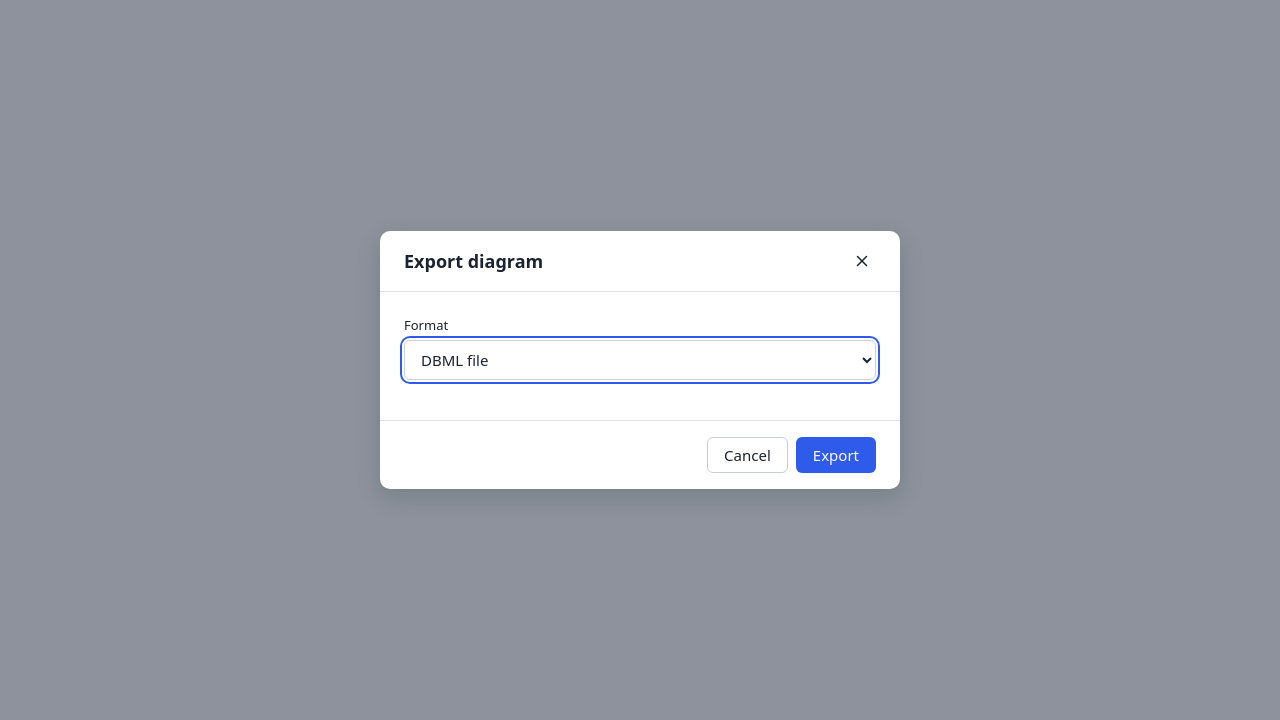
Test: export dialog › shows the list of source errors for an SQL export
The width and height of the screenshot is (1280, 720).
Select "SQL: PostgreSQL" in the dropdown labelled "Format": {"x": 640, "y": 360} [404,340,876,380]
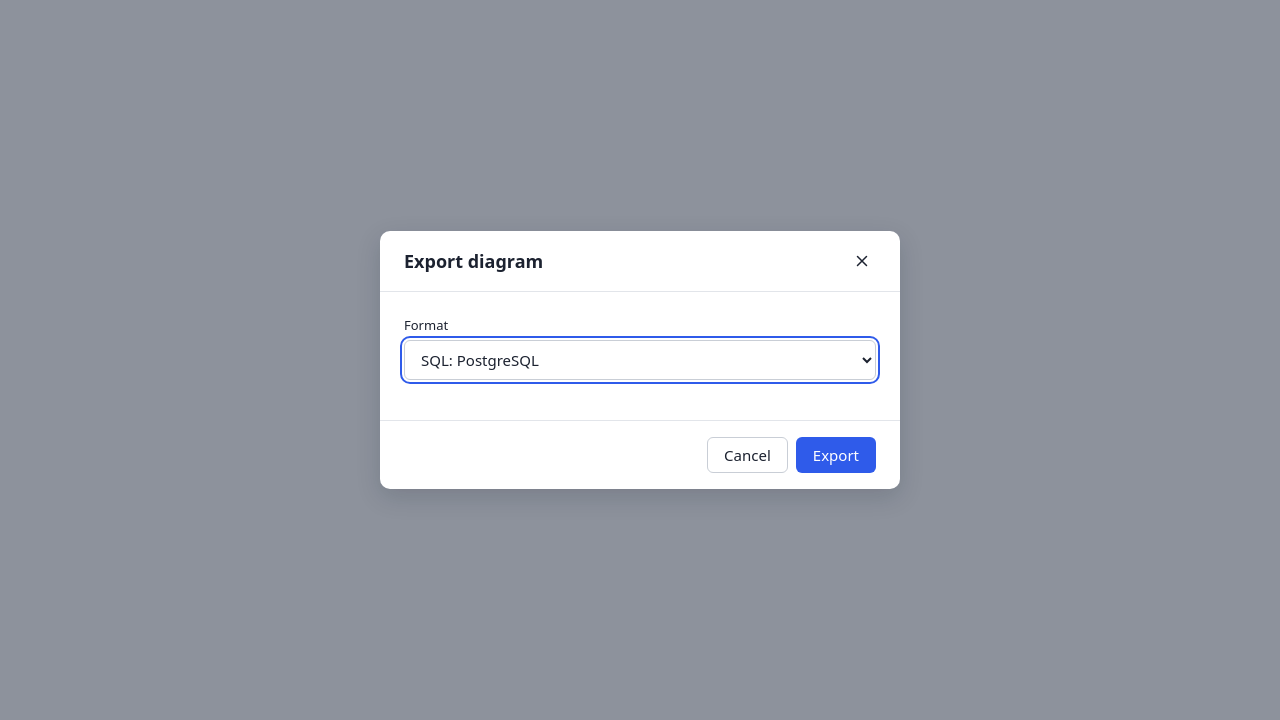
Click the button "Export": {"x": 836, "y": 455} [796,437,876,473]
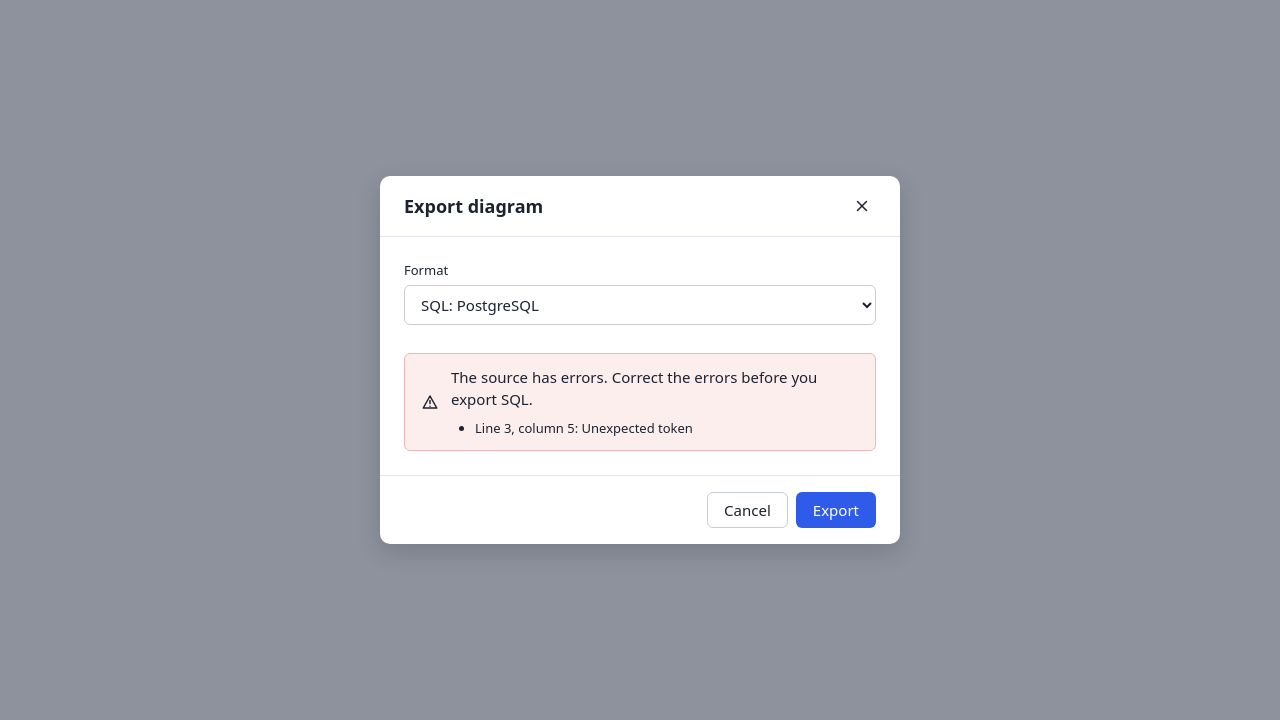
Expected: the button "Export" is enabled, [796,492,876,528]
Result: the text "The source has errors. Correct the errors before you export SQL." is shown at [451,366,817,409]
Result: the list item "Line 3, column 5: Unexpected token" is shown at [475,418,693,436]
